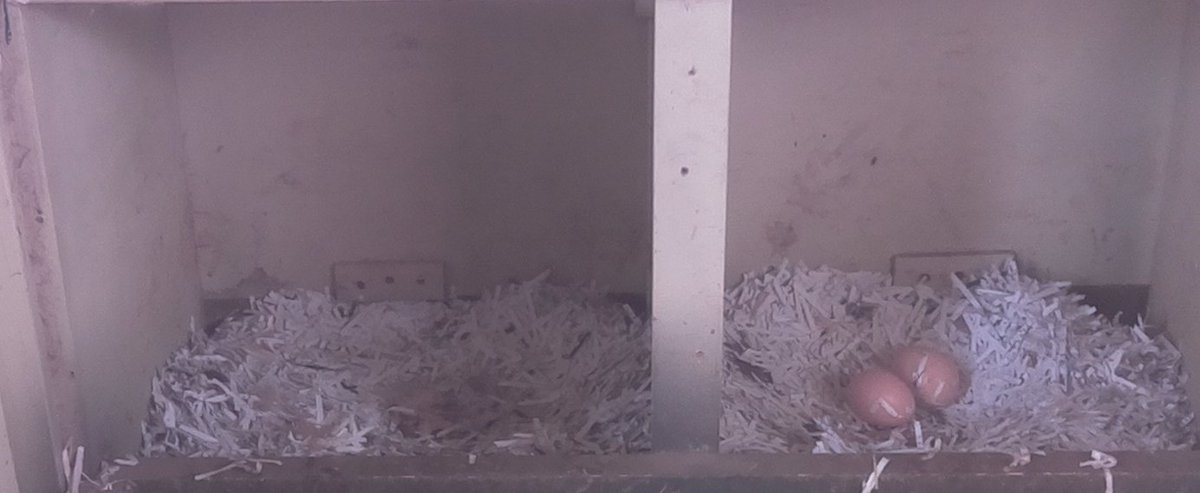egg: (840, 361, 922, 439), (883, 344, 971, 415)
